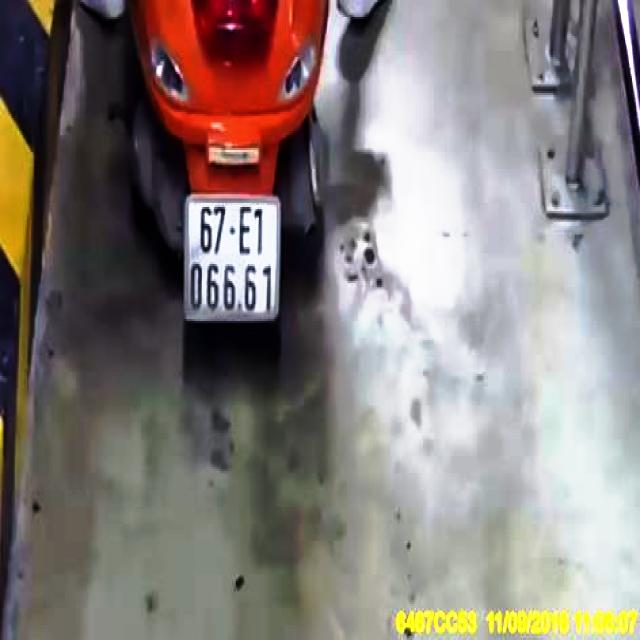license_plate: (186, 197, 281, 319)
